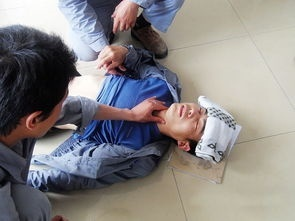falling: (27, 22, 236, 198)
